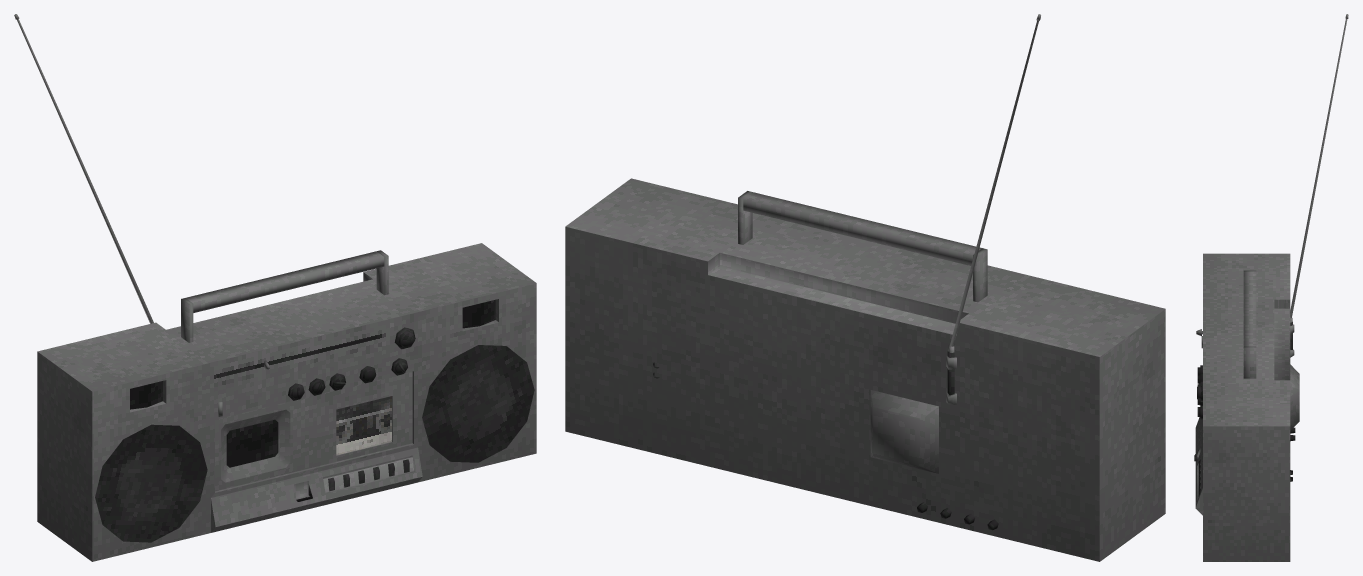
File: Boombox_01.glb
3 renders of one model, left to right at view 1: azimuth 30°, elevation 25°; view 2: azimuth 150°, elevation 25°; view 3: azimuth 270°, elevation 25°, orthographic. The views are drawn at different scales.
Visible parts, largest first — view 1: Boombox_01; view 2: Boombox_01; view 3: Boombox_01.
Part boxes in pixels (left/top/right/bottom): Boombox_01: left=14, top=14, right=536, bottom=561; Boombox_01: left=565, top=14, right=1165, bottom=561; Boombox_01: left=1194, top=14, right=1348, bottom=561.
Bounding box in the file's own units: 0.8686 × 0.8927 × 0.3277.
Materials: 1 (1 with a texture image).
